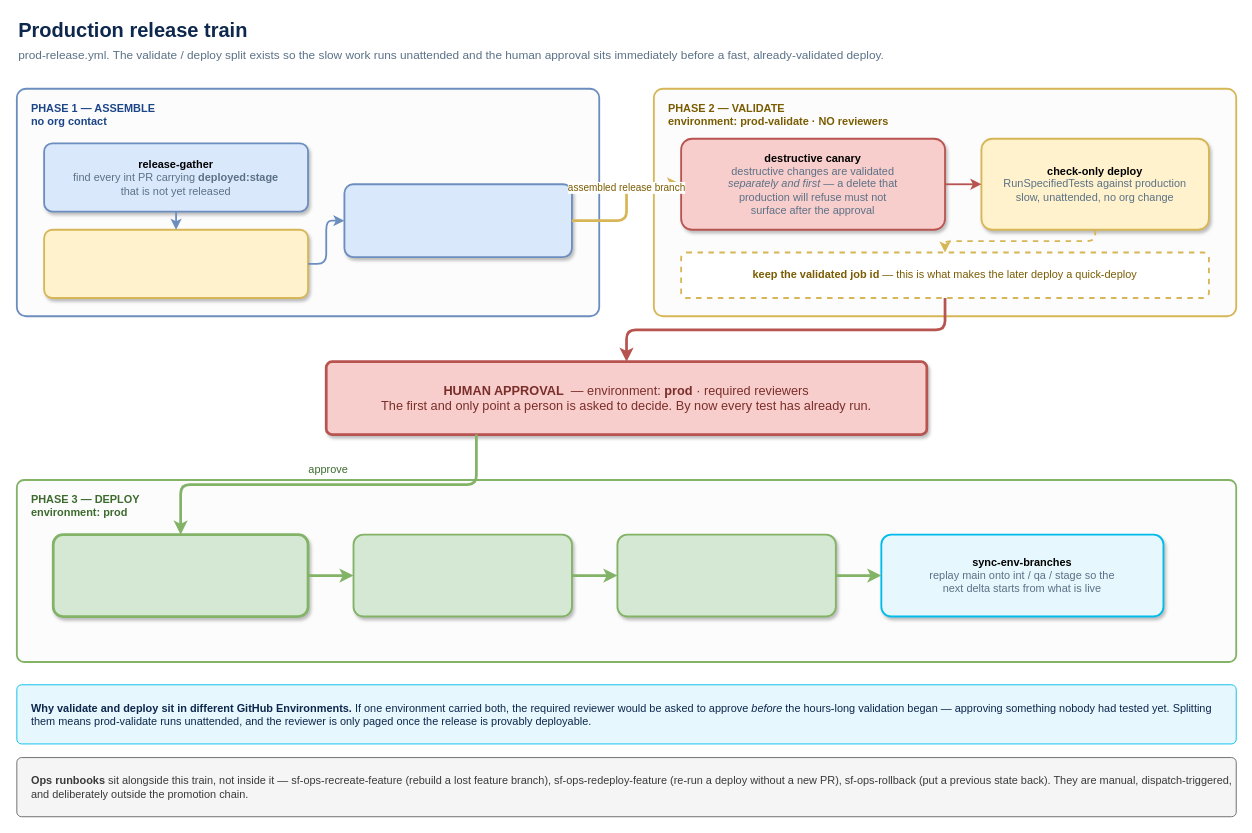
This 1252x833 diagram has some shape labels left out. Each missing label, with the centre of its shape:
"cut release/YYYY.WW from main , then replay each gathered change onto it" goes at point 176,265.
"merge release → main main now matches production" goes at point 727,576.
"quick-deploy replay the validated job id no tests re-run — minutes, not hours" goes at point 181,576.
"release-preflight does the assembled branch actually build a delta?" goes at point 458,221.
"tag the release immutable record of what shipped" goes at point 463,576.
